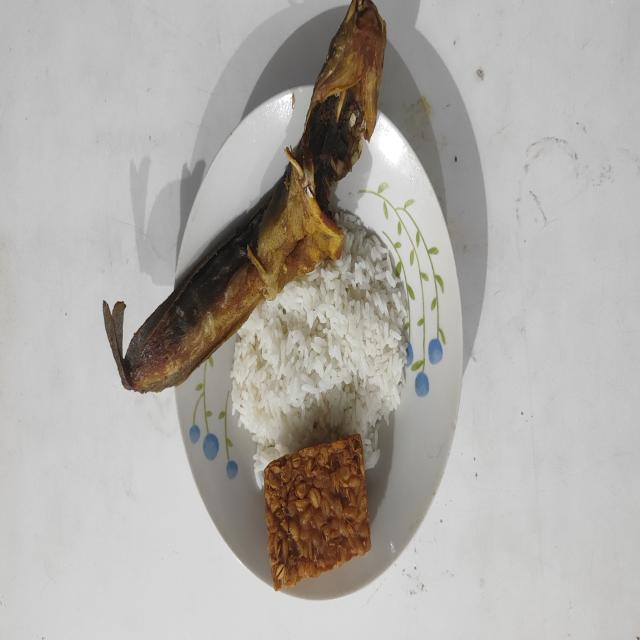nasi_putih: (232, 209, 408, 489)
tempe_goreng: (264, 434, 370, 590)
